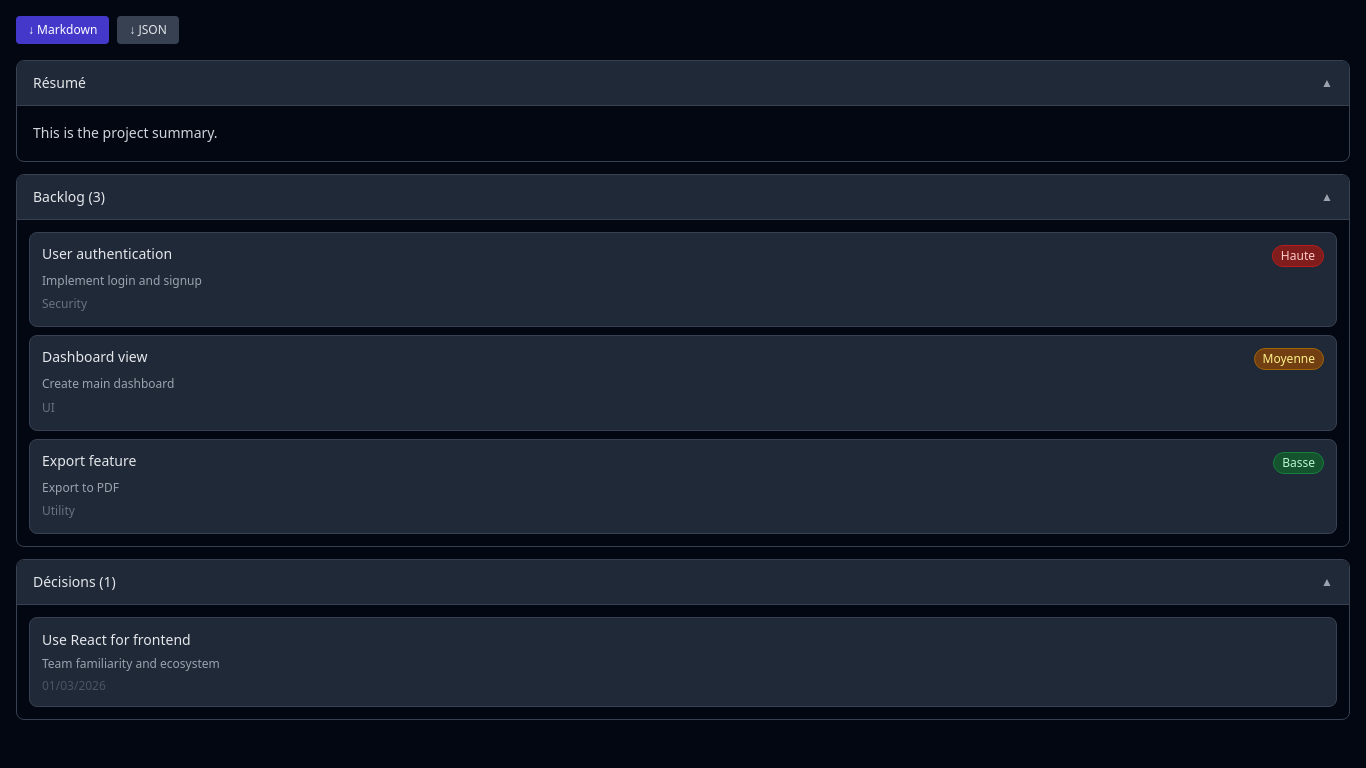
Test: DocsPanel › collapses summary section when clicked
Click the text "Résumé" at (60,83), box [33,73,86,93]
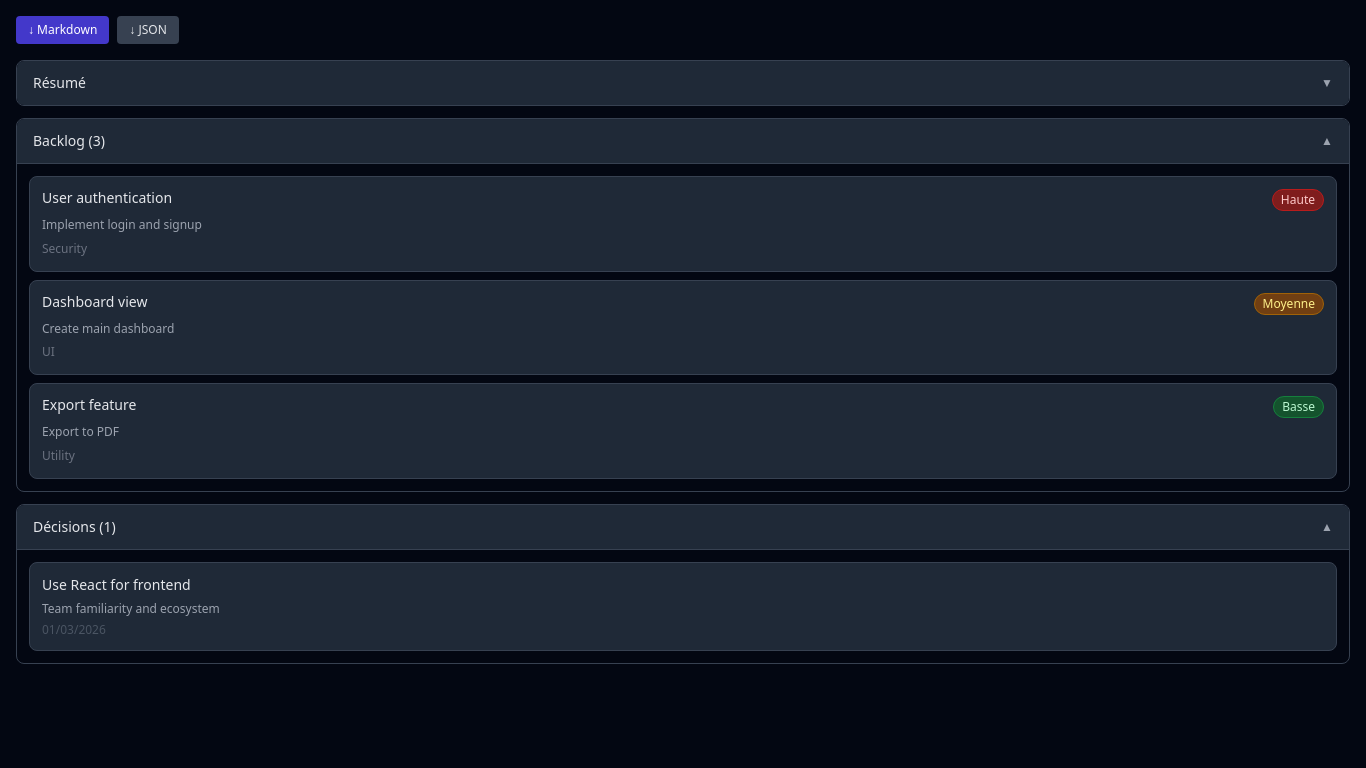
Check: the text "This is the project summary." is gone
